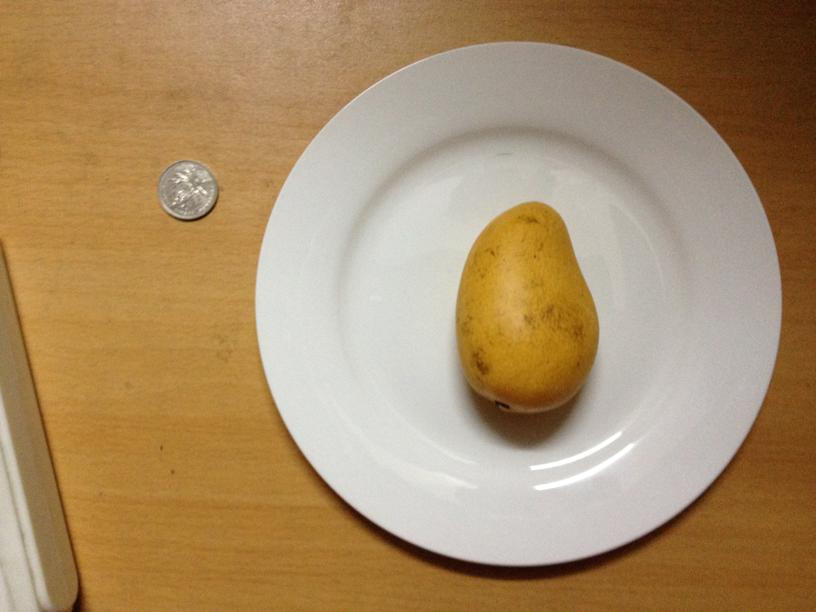coin: (154, 159, 219, 223)
mango: (452, 202, 598, 412)
